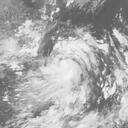cyclone: (47, 33, 95, 102)
